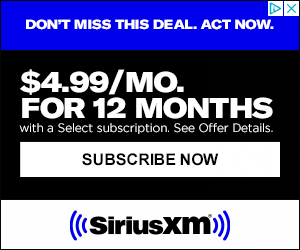fake_button: (14, 138, 284, 190)
